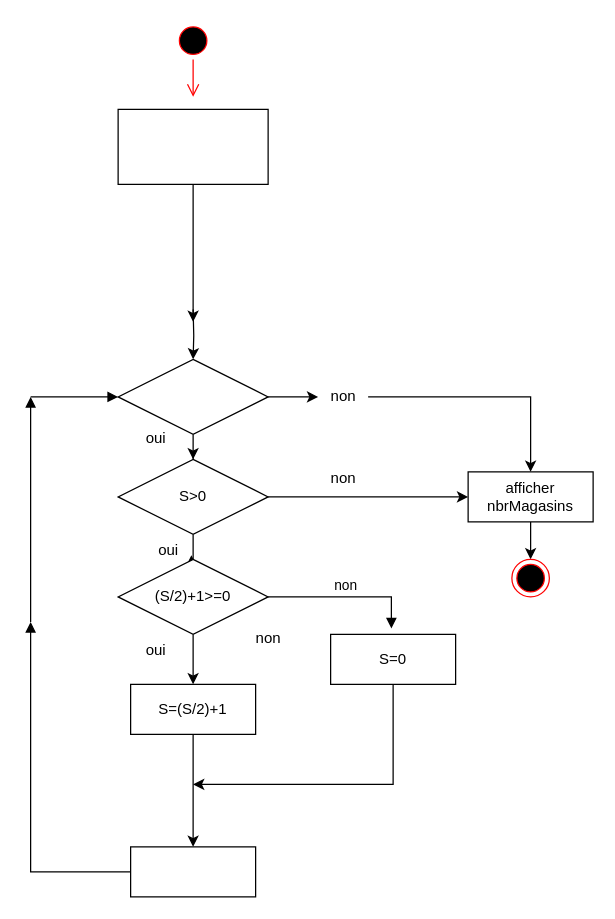
Some shapes in this 615 by 919 pixel diagram are drawn without their labels. The centre of each missing label's shape, as x and y in pixels:
"Nbr Magasin incrementer" goes at point (192, 871).
"S>1" goes at point (192, 396).
"Saisir S" goes at point (192, 146).
